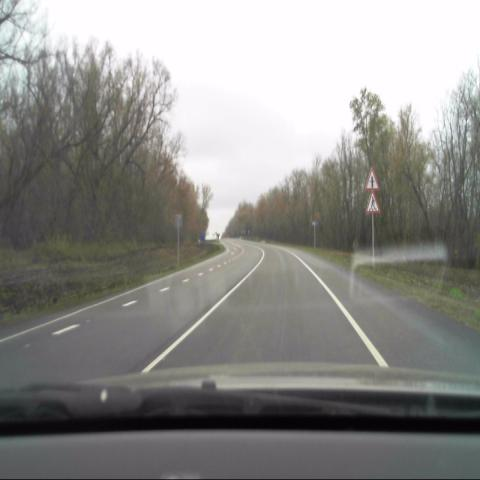1_22: (366, 191, 380, 212)
2_3: (366, 166, 378, 192)
